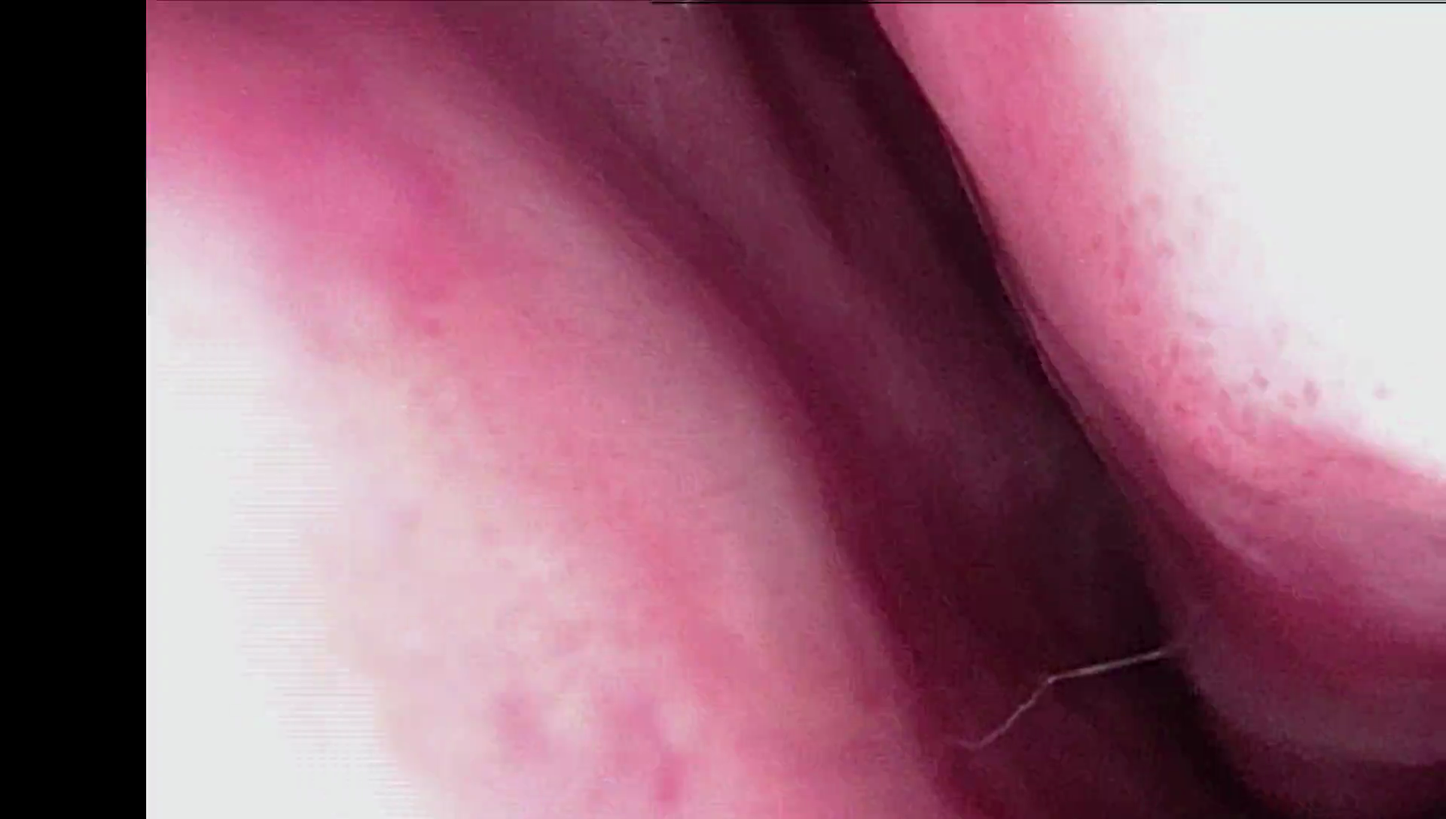close_wall: (152, 190, 725, 819), (1083, 0, 1446, 483)
next: (965, 446, 1318, 819)
